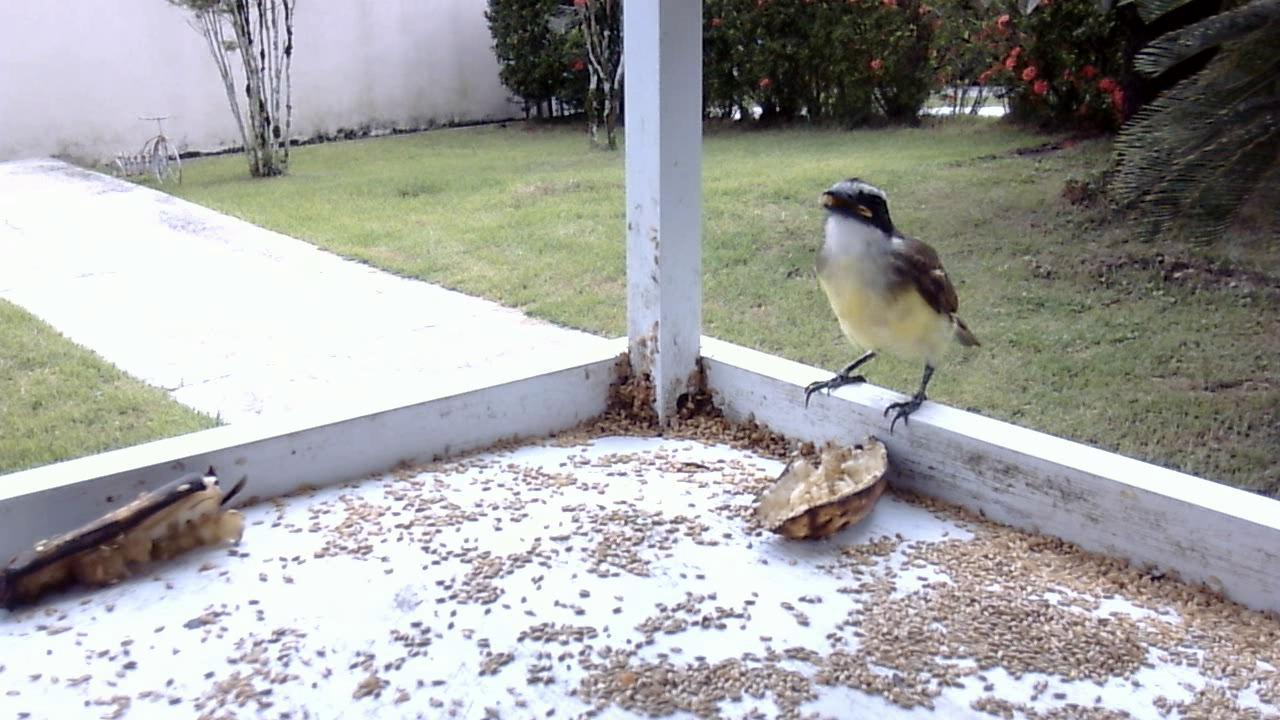bem_te_vi: (788, 171, 983, 445)
